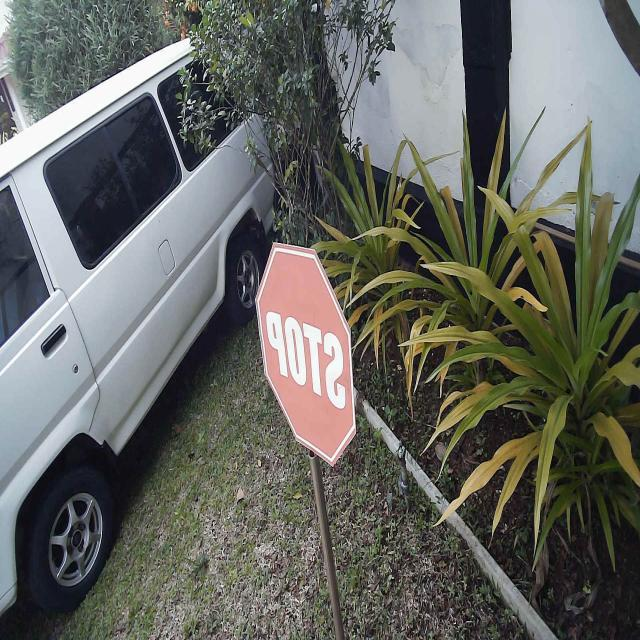stop: (254, 237, 358, 472)
